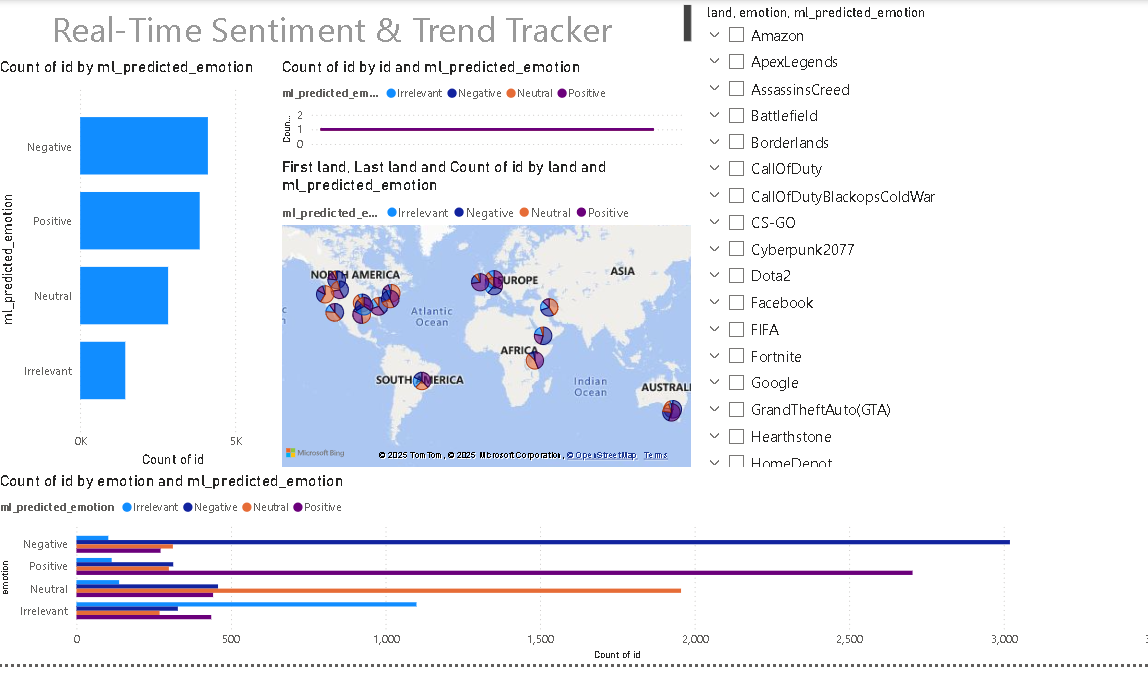

What the dashboard file says about the page in this screenshot:
{"tool":"powerbi","page":{"name":"Page 1","canvas":[1280,720],"ordinal":0},"visuals":[{"type":"barChart","fields":{"Y":["CountNonNull(trend_tracker trend_data.id)"],"Category":["trend_tracker trend_data.ml_predicted_emotion"]},"box":[0,61.8,305.8,448.9],"z":0},{"type":"clusteredBarChart","fields":{"Category":["trend_tracker trend_data.emotion"],"Y":["CountNonNull(trend_tracker trend_data.id)"],"Series":["trend_tracker trend_data.ml_predicted_emotion"]},"box":[0,510.7,1280.1,209.8],"z":1000},{"type":"lineChart","fields":{"Category":["trend_tracker trend_data.id"],"Y":["CountNonNull(trend_tracker trend_data.id)"],"Series":["trend_tracker trend_data.ml_predicted_emotion"]},"box":[305.8,61.8,444,109],"z":2000},{"type":"map","fields":{"Category":["trend_tracker trend_data.land"],"Series":["trend_tracker trend_data.ml_predicted_emotion"],"Size":["CountNonNull(trend_tracker trend_data.id)"],"Y":["Min(trend_tracker trend_data.land)"],"X":["Max(trend_tracker trend_data.land)"]},"box":[305.8,170.8,453.8,339.9],"z":3000},{"type":"slicer","fields":{"Values":["trend_tracker trend_data.land","trend_tracker trend_data.emotion","trend_tracker trend_data.ml_predicted_emotion"]},"box":[759.6,0,520.5,510.7],"z":4000},{"type":"textbox","box":[56.9,0,702.7,61.8],"z":4001}]}

Visuals, with their boxes on the page's 1280x720 design canvas (x1, y1, x2, y2). These are canvas units, not pixel positions in the 1148x674 screenshot, which may show the page scaled, cropped or inside an application window:
barChart - CountNonNull(trend_tracker trend_data.id) x trend_tracker trend_data.ml_predicted_emotion: 0, 62, 306, 511
clusteredBarChart - trend_tracker trend_data.emotion x CountNonNull(trend_tracker trend_data.id): 0, 511, 1280, 720
lineChart - trend_tracker trend_data.id x CountNonNull(trend_tracker trend_data.id): 306, 62, 750, 171
map - trend_tracker trend_data.land x trend_tracker trend_data.ml_predicted_emotion: 306, 171, 760, 511
slicer - trend_tracker trend_data.land x trend_tracker trend_data.emotion: 760, 0, 1280, 511
textbox: 57, 0, 760, 62
